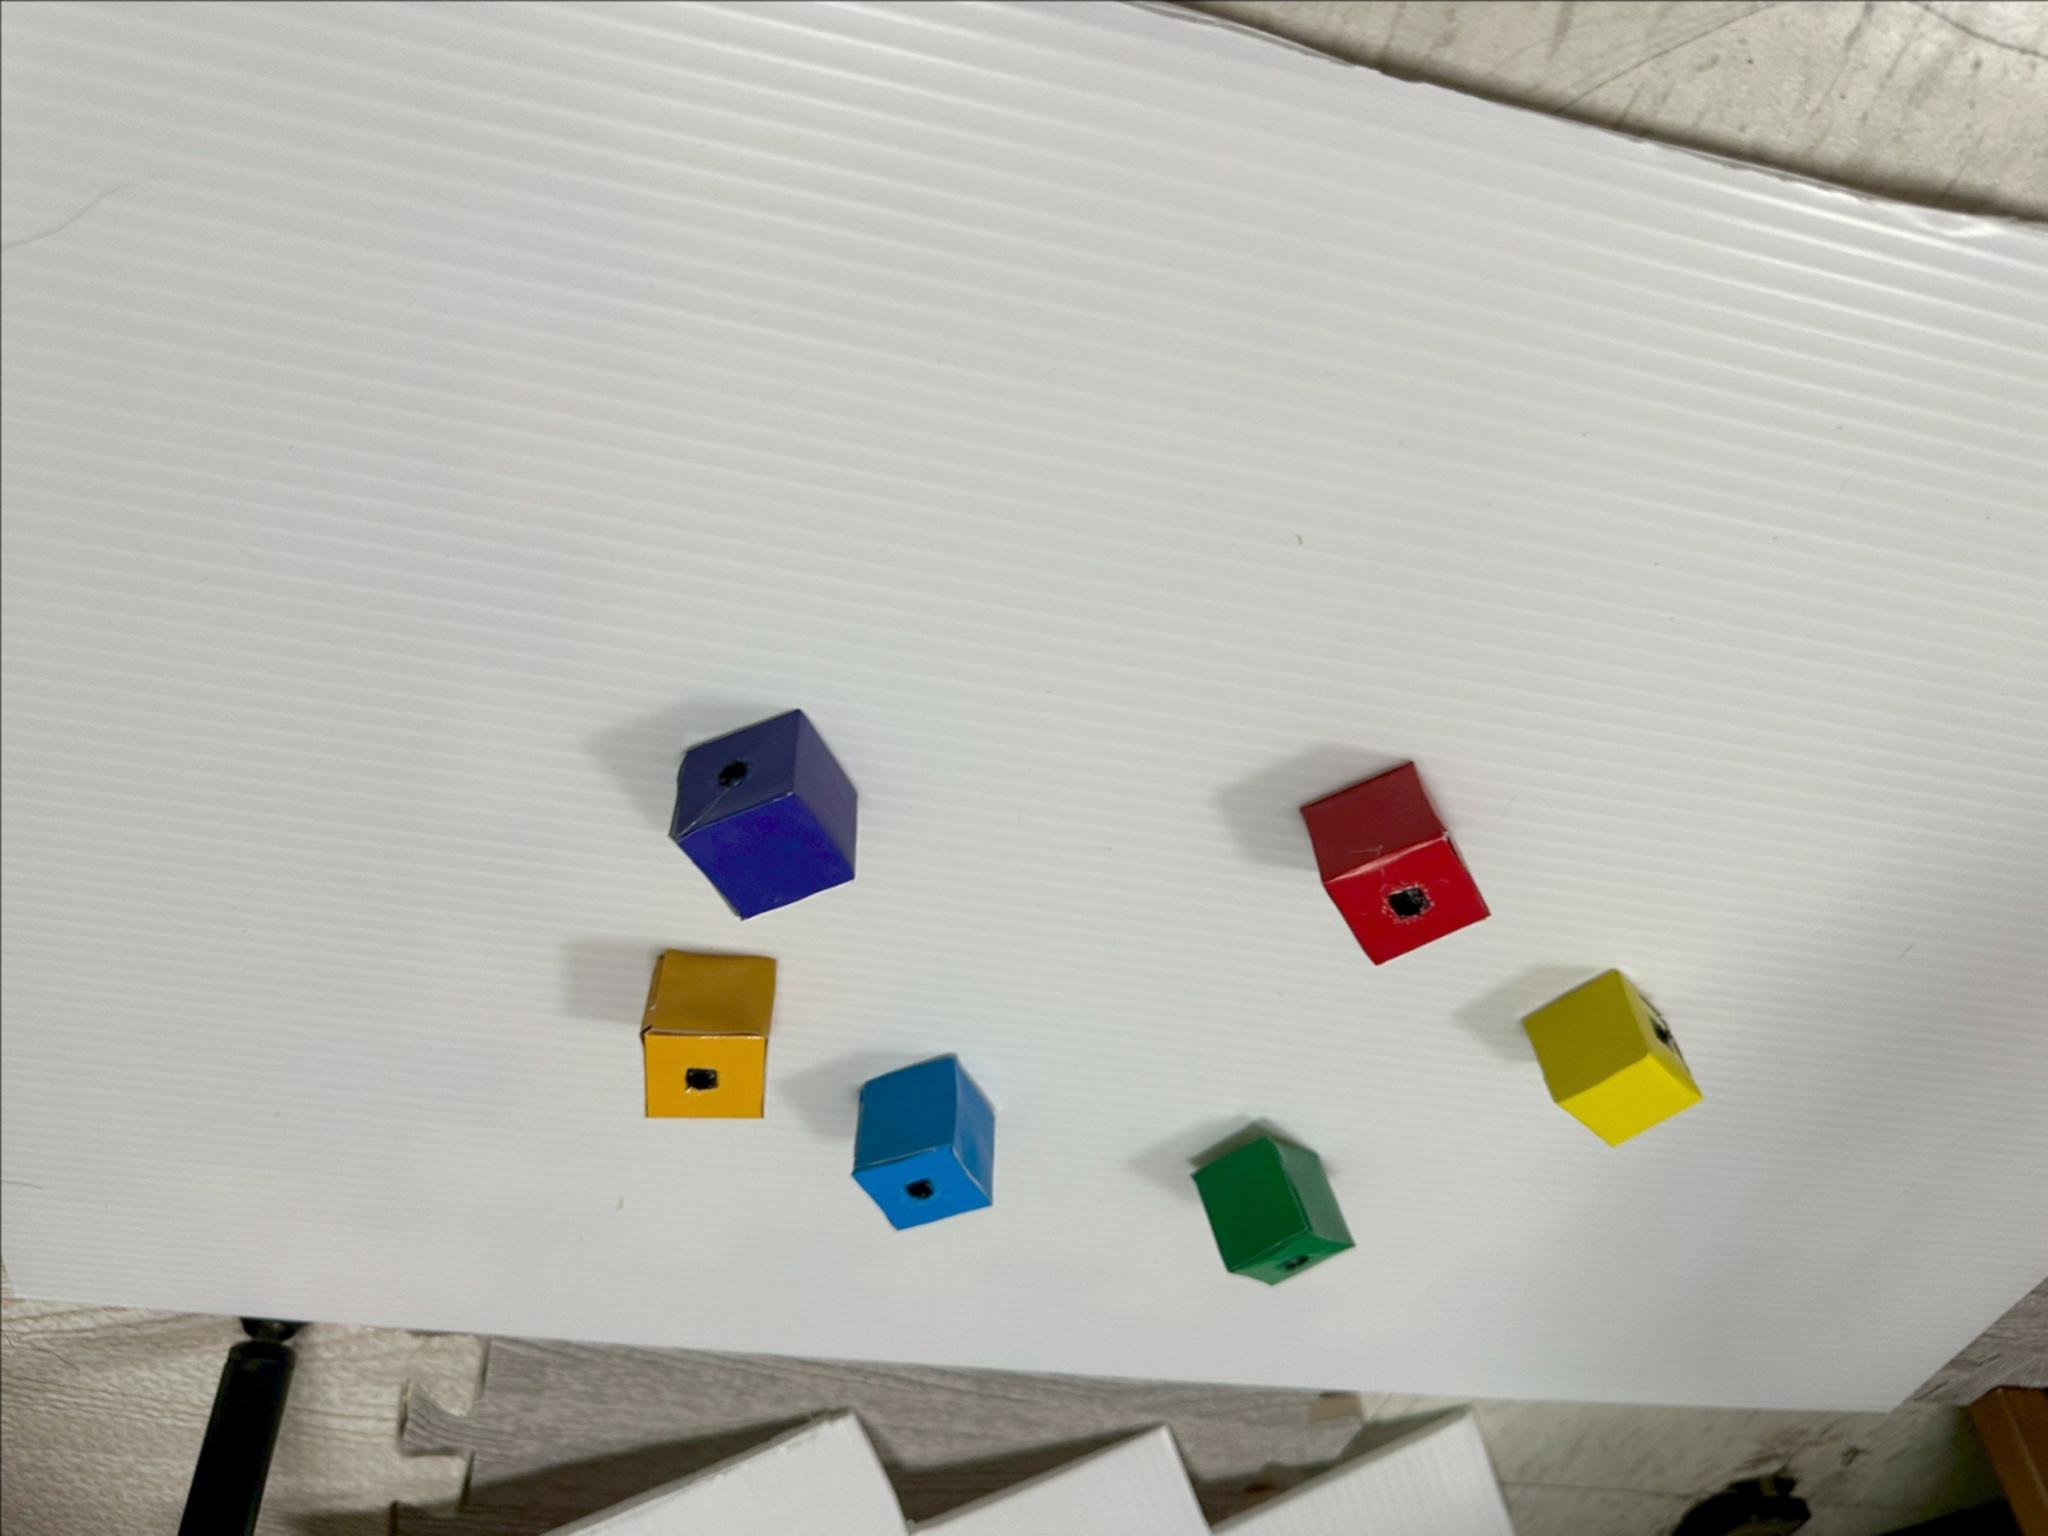cube: (671, 712, 856, 918), (1300, 763, 1487, 963), (1524, 970, 1701, 1146), (853, 1057, 995, 1228), (1193, 1134, 1353, 1284), (642, 950, 776, 1118)
